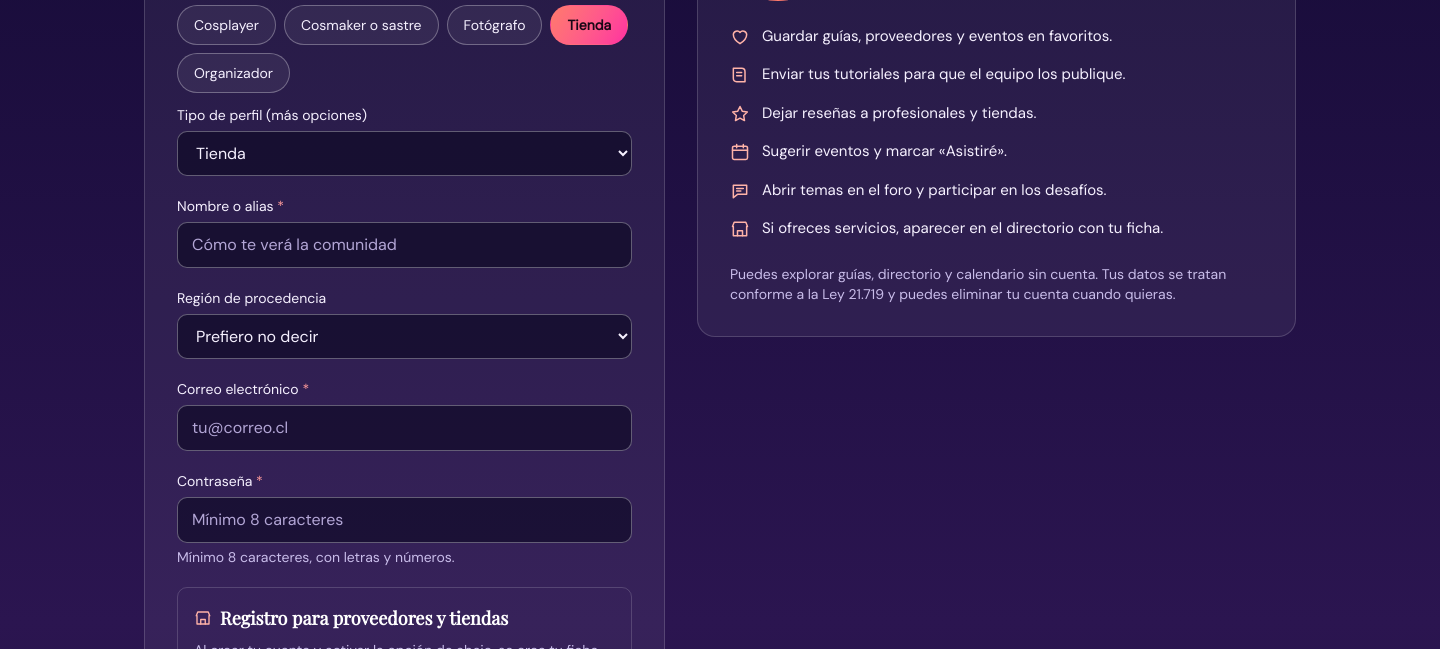
Acceso (UC-01) › el registro envía tipo de perfil, opt-in al directorio y consentimiento (RF-10, RNF-11)
(page scrolled)
Expected: the text "Registro para proveedores y tiendas" is shown, [194,606,508,630]
Step 1. Type "Telas del Sur" into the field labelled "Nombre o alias *" → (404, 245), box [177,222,632,268]
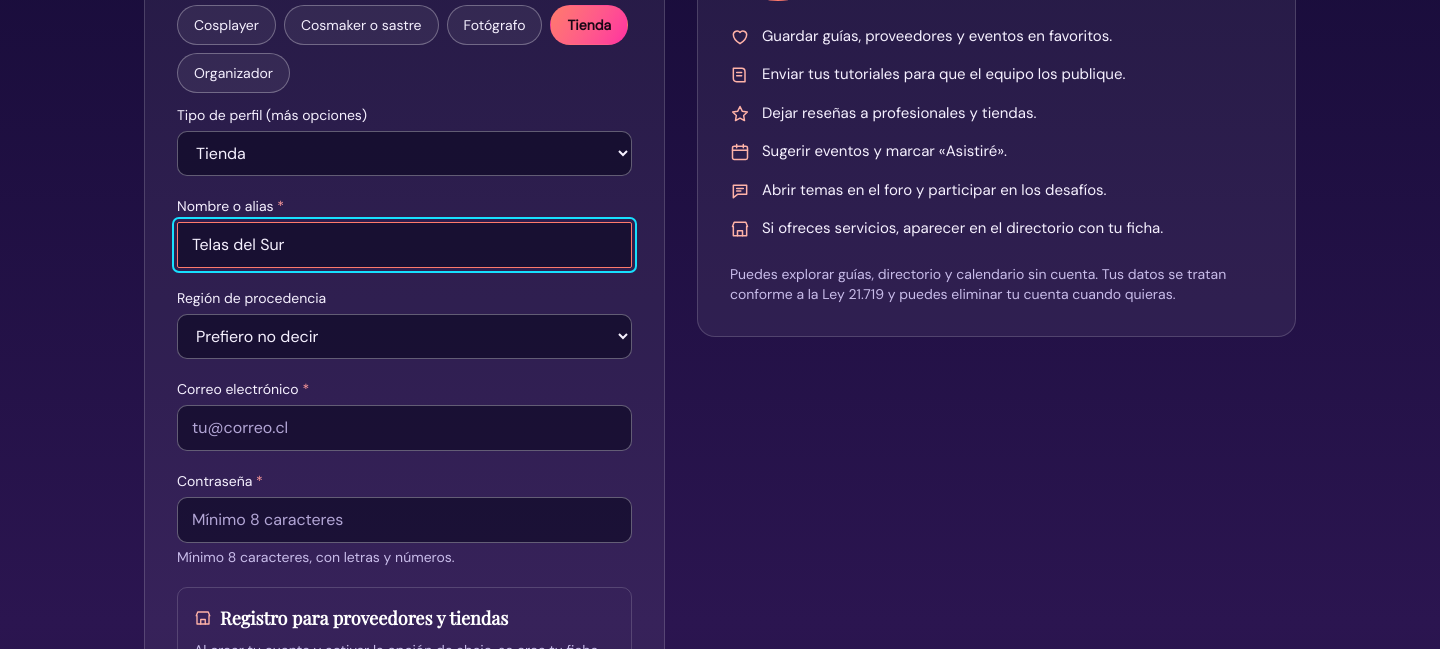
Step 2. Type "telas@demo.cl" into the field labelled "Correo electrónico *" → (404, 428), box [177,405,632,451]
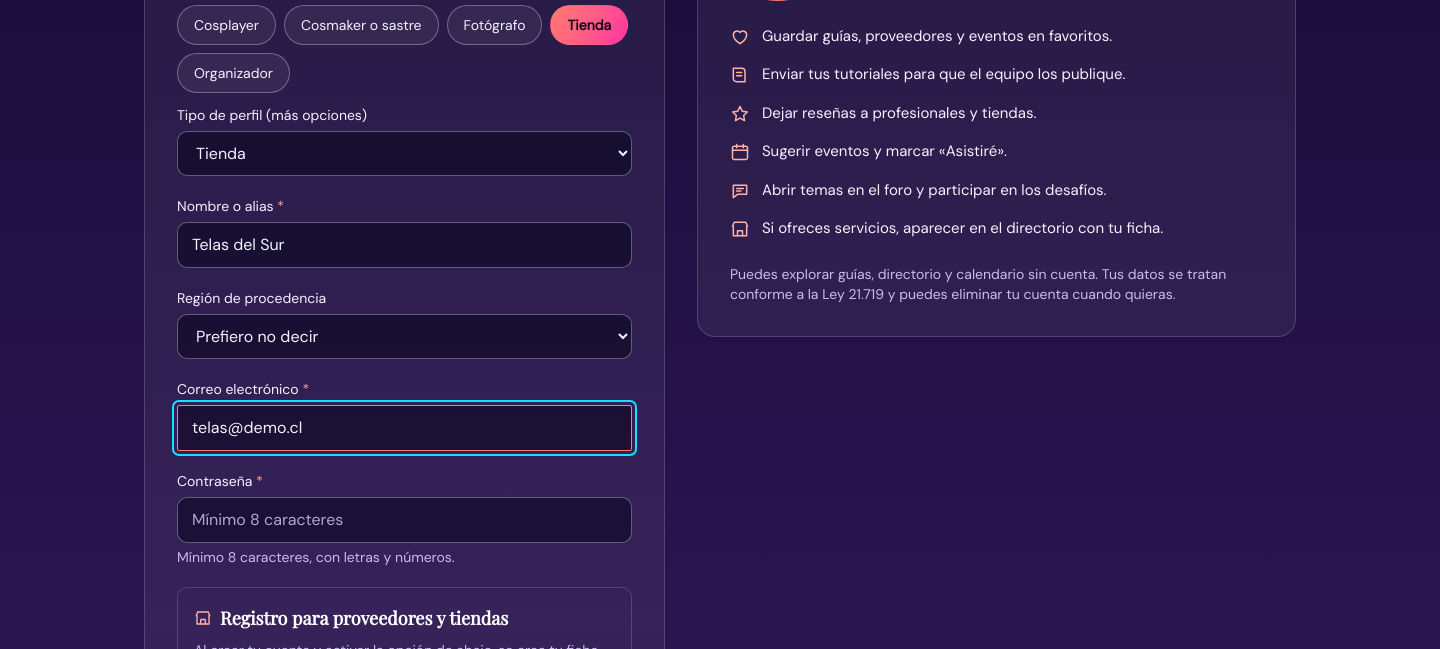
Step 3. Type "Clave2026segura" into the password field labelled "Contraseña *" → (404, 520), box [177,497,632,543]
(page scrolled)
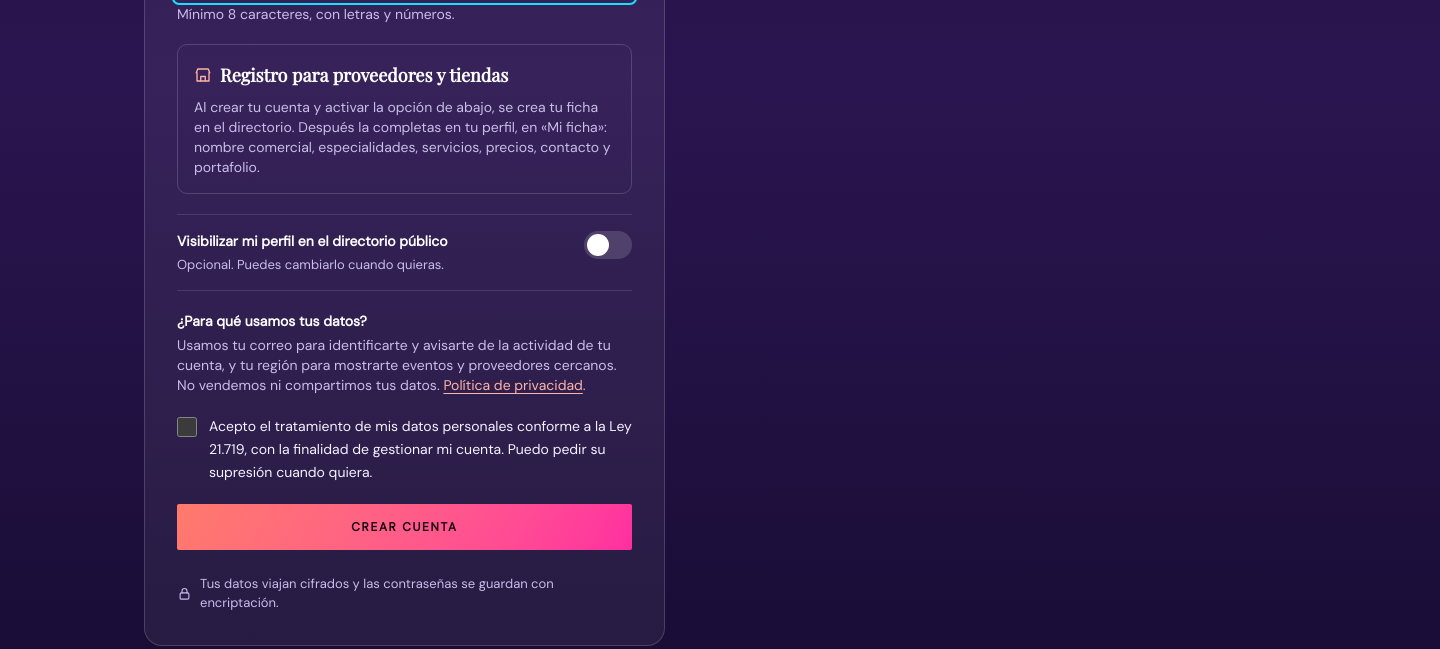
Step 4. Click the switch named "Visibilizar mi perfil" → (608, 245), box [584,231,632,259]
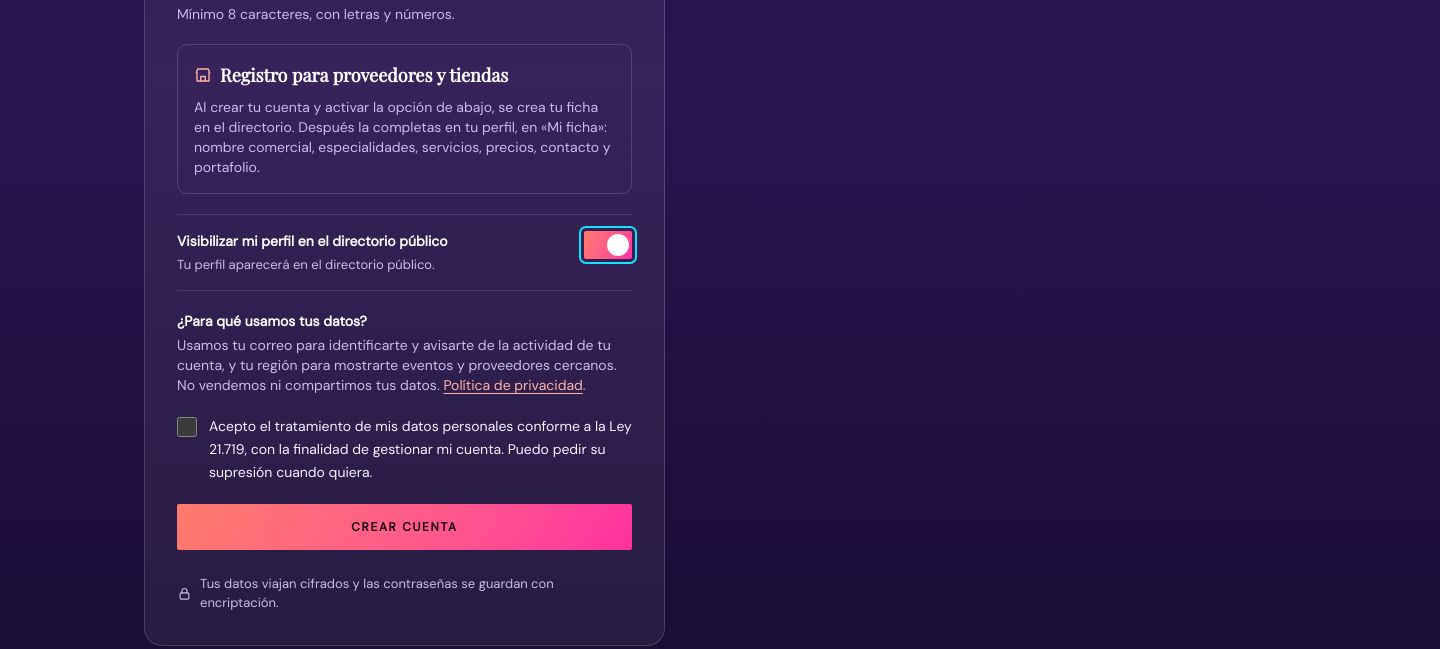
Expected: the switch named "Visibilizar mi perfil" is checked, [584,231,632,259]
Step 5. Click the checkbox labelled "Acepto el tratamiento" → (187, 428), box [177,418,197,438]
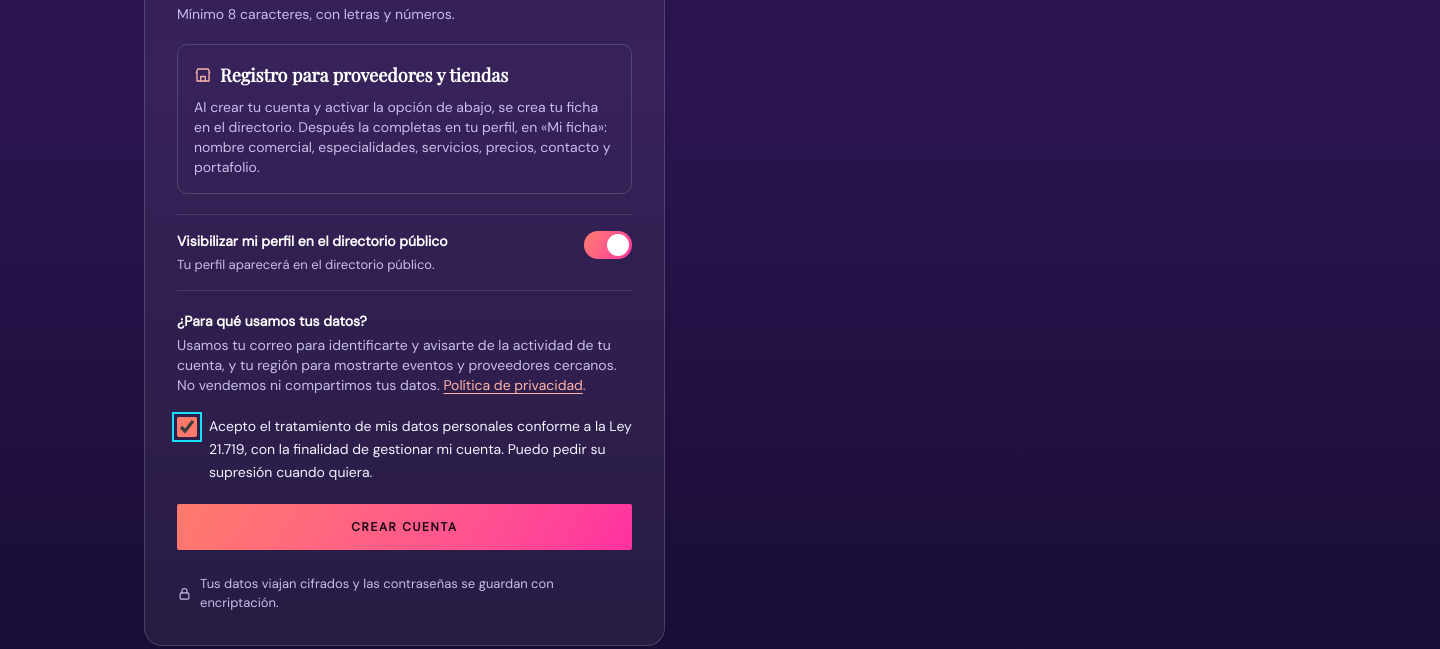
Step 6. Click the button "Crear cuenta" → (404, 527), box [177,504,632,550]
(page scrolled)
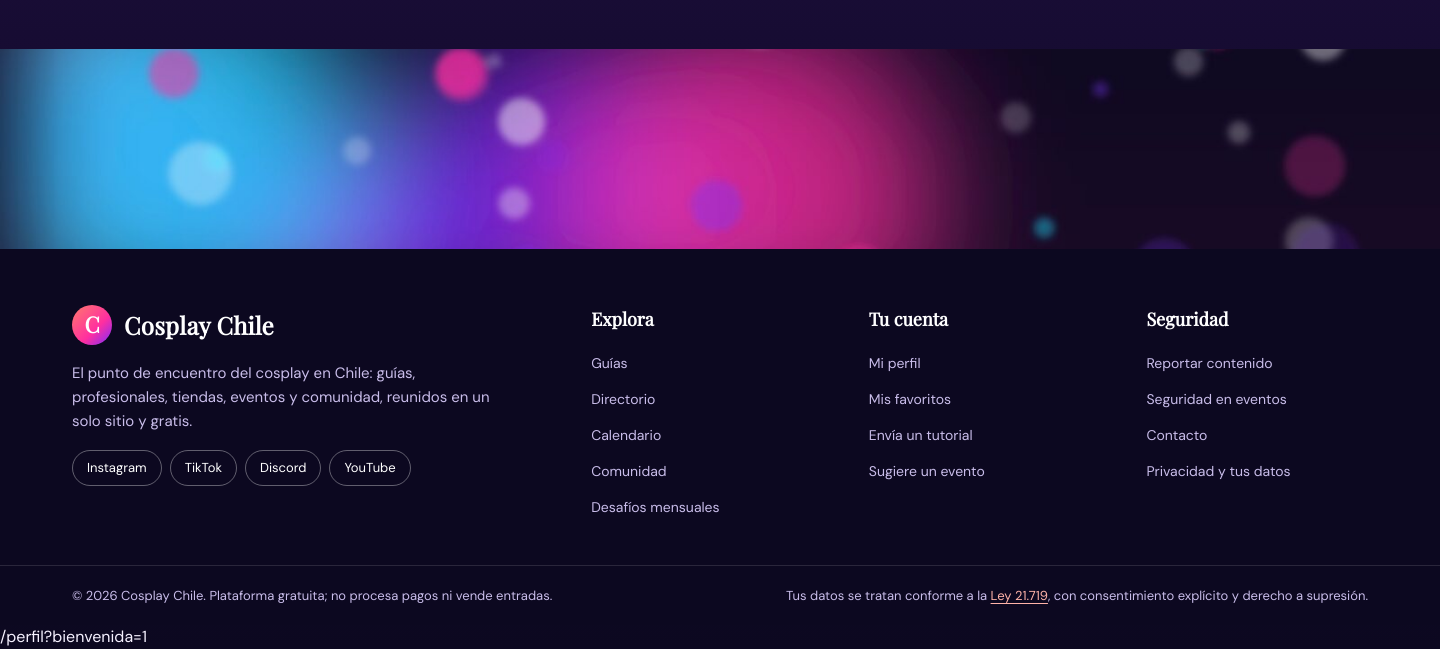
Expected: the text with test id "ubicacion" reads "/perfil?bienvenida=1", [0,626,147,647]
